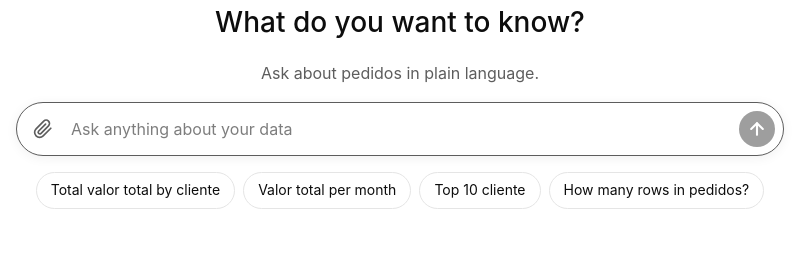
Test: ChatView › shows the question as a user message and a thinking indicator while waiting
Step 1. Type "Quanto cada cliente gastou?" into the text box named "Question" → (400, 129), box [67,111,733,147]
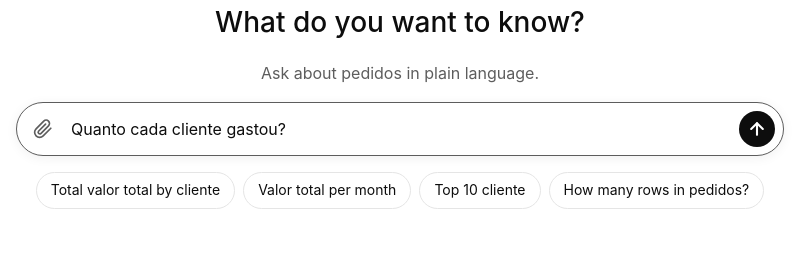
Step 2. Click the button named "Send" → (757, 129), box [739,111,775,147]
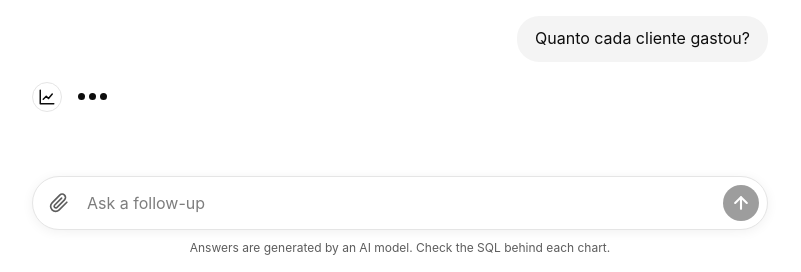
Expected: the text "Quanto cada cliente gastou?" is shown, [517,16,768,62]
Expected: the message named "Thinking" is shown, [32,82,107,112]
Expected: the text box named "Question" is empty, [83,185,717,221]
